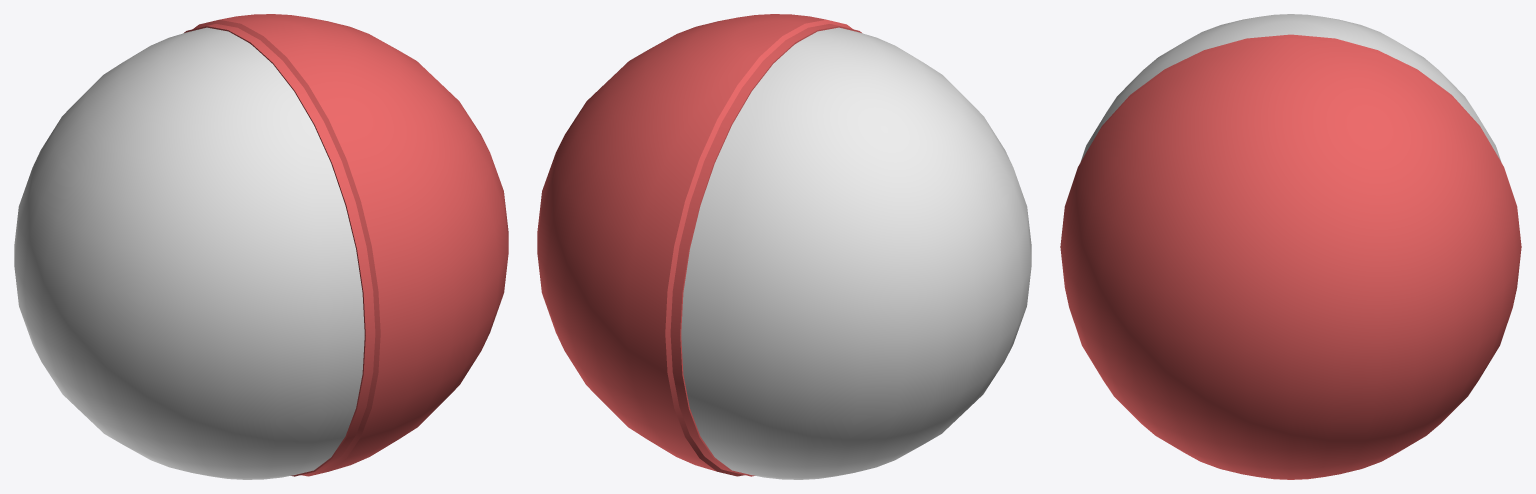
Rendered from Gachapon.fbx.
3 renders of one model, left to right at view 1: azimuth 30°, elevation 25°; view 2: azimuth 150°, elevation 25°; view 3: azimuth 270°, elevation 25°, orthographic.
Parts seen in each view (by area): view 1: Sphere, Sphere.001; view 2: Sphere, Sphere.001; view 3: Sphere.001, Sphere.
Part boxes in pixels (bbox=[...]): Sphere: bbox=[14, 27, 364, 479]; Sphere.001: bbox=[184, 14, 508, 476]; Sphere: bbox=[681, 27, 1031, 479]; Sphere.001: bbox=[537, 14, 861, 476]; Sphere.001: bbox=[1060, 34, 1521, 479]; Sphere: bbox=[1080, 14, 1501, 161].
Size of the model in its own units: 242 by 224 by 224.
